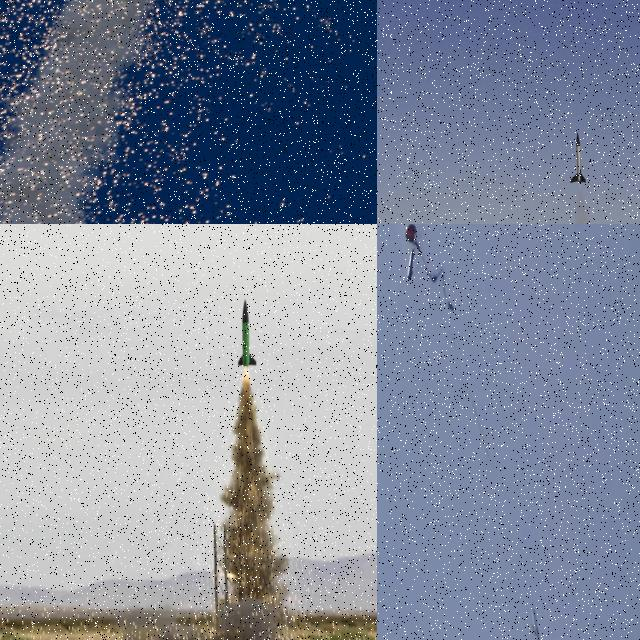Rocket: (237, 298, 257, 367), (570, 132, 587, 184), (531, 608, 547, 640)
